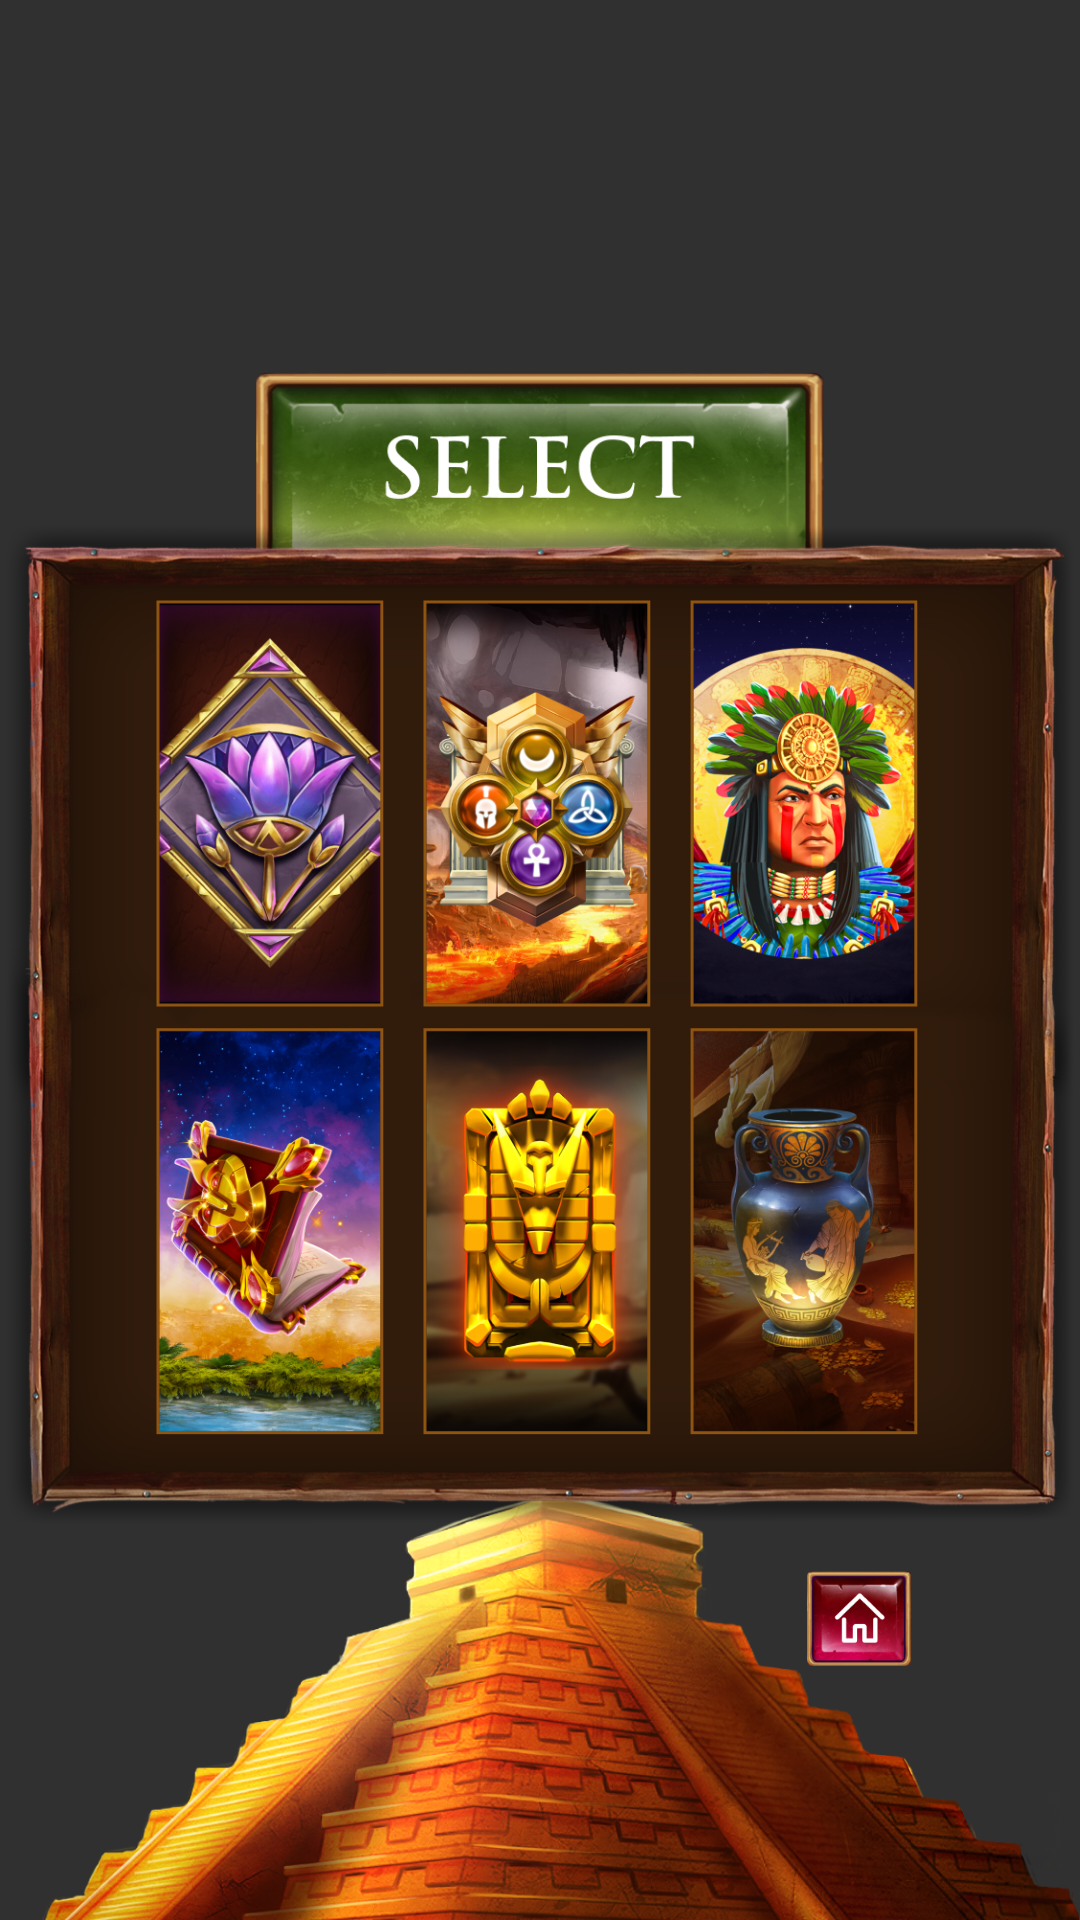

Locate icon controls on the screen. Image size 1080w x 1920h, boxes as {"left": x1, "top": y1, "right": x2, "bottom": y2}.
home: {"left": 807, "top": 1571, "right": 911, "bottom": 1666}
